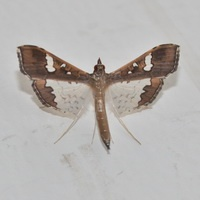insect: (17, 44, 179, 148)
